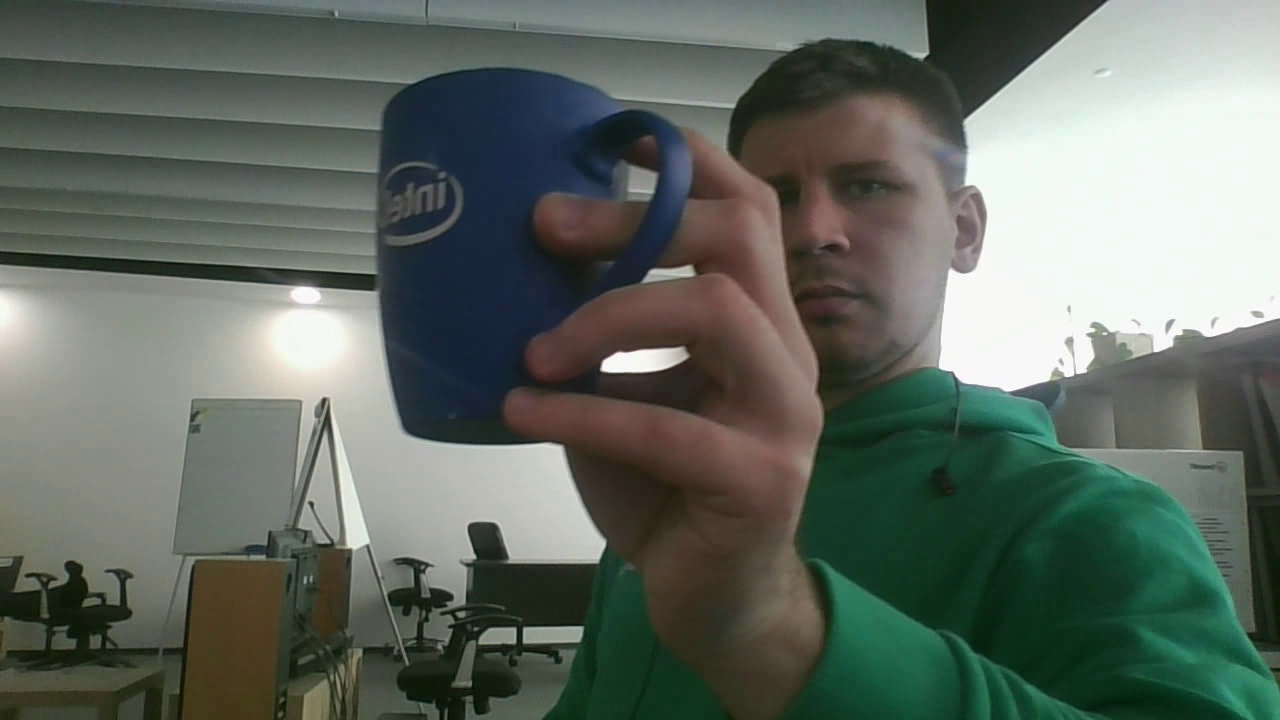cup: (376, 67, 691, 448)
